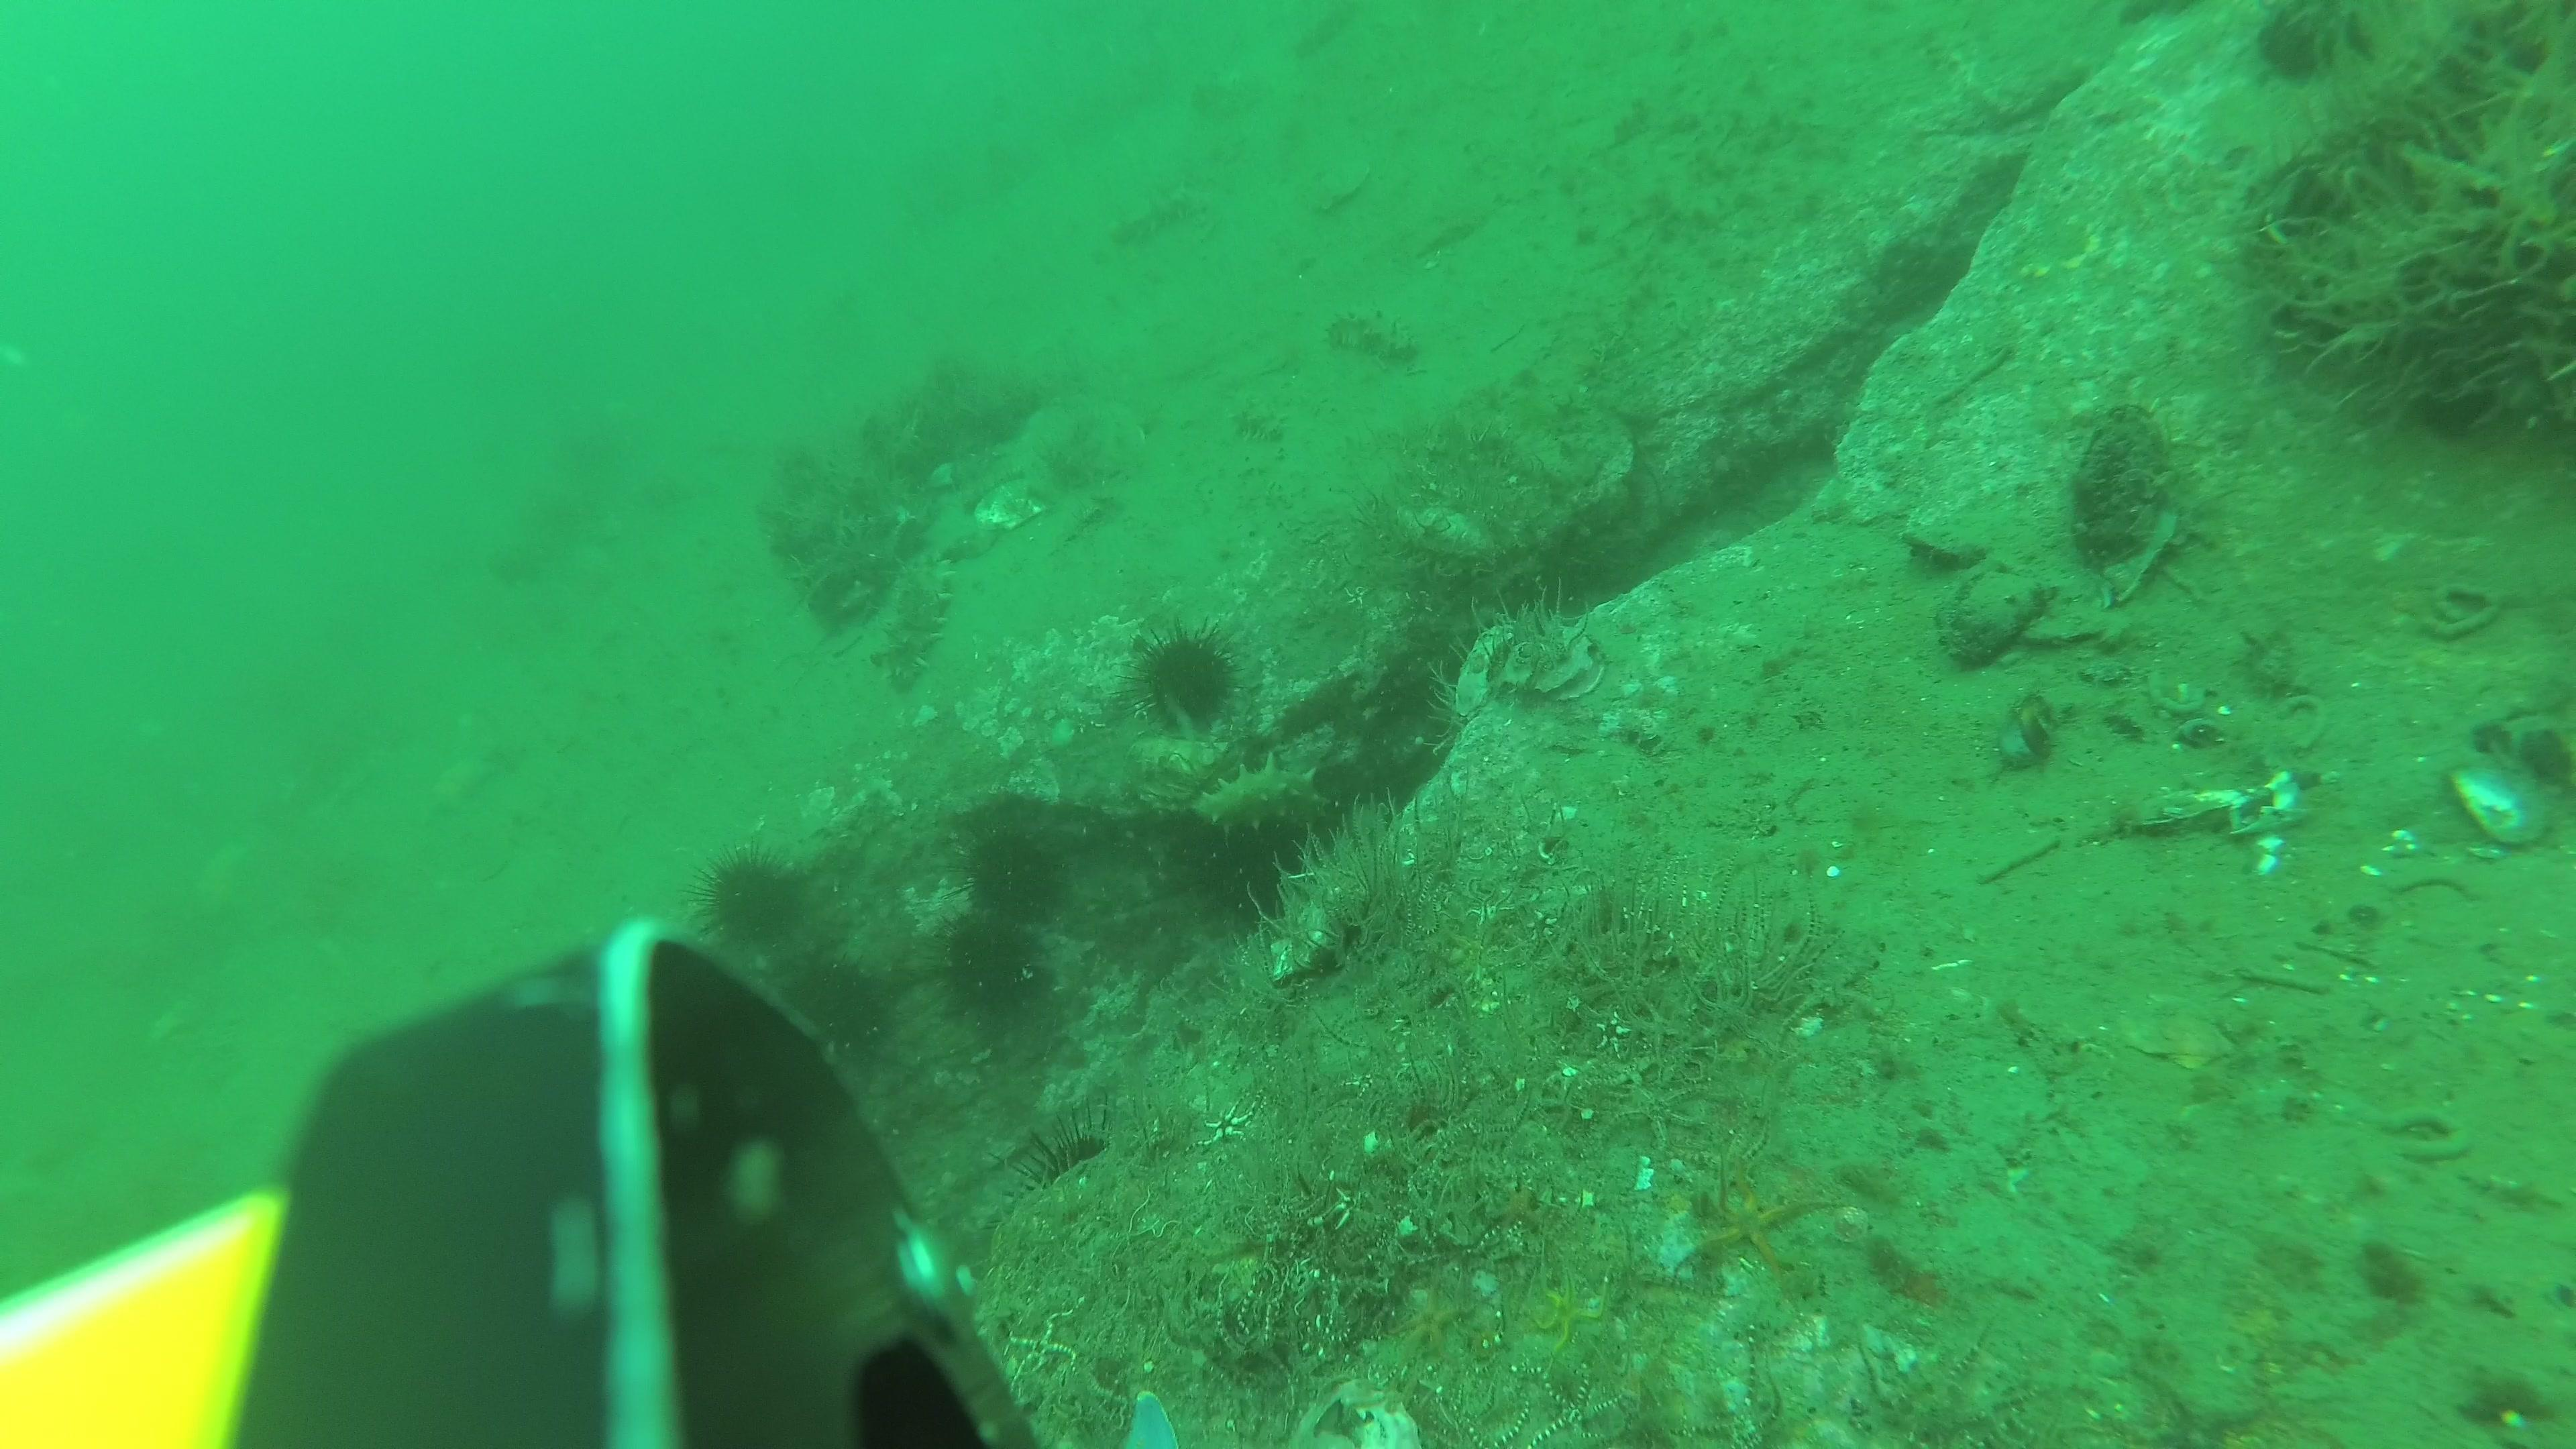echinus: (1012, 1108, 1145, 1237), (1136, 614, 1247, 743), (939, 913, 1051, 1037), (959, 830, 1074, 936), (1200, 810, 1302, 927), (697, 855, 816, 955), (789, 955, 892, 1060)
holothurian: (1198, 755, 1332, 842), (885, 548, 952, 699), (1327, 304, 1417, 370), (1115, 191, 1196, 253), (1286, 0, 1361, 62), (1191, 69, 1263, 119), (1231, 395, 1292, 448)
scallop: (2123, 993, 2233, 1077), (975, 478, 1046, 533), (1304, 157, 1368, 214)
starfish: (1688, 1164, 1824, 1276), (1525, 1272, 1614, 1352), (1392, 1288, 1468, 1362)
